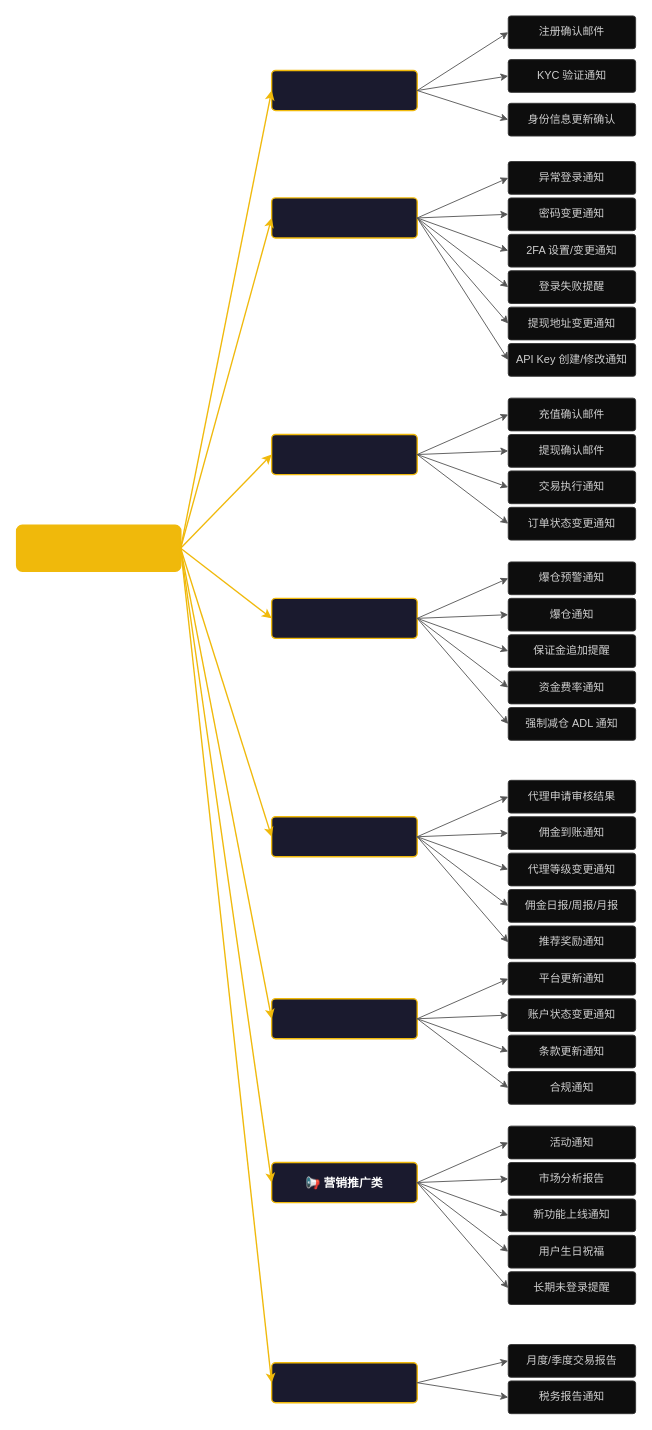
The diagram is 652 pixels wide and 1430 high, and some of its shapes have lost their labels. The centre of each missing label's shape, as x and y in pixels:
"代理/推广类" belongs at point 344,836.
"️ 系统通知类" belongs at point 344,1018.
"💱 交易通知类" belongs at point 344,454.
"📄 财务报告类" belongs at point 344,1382.
"📊 合约/衍生品交易类" belongs at point 344,618.
"📧 CEX 邮件类型" belongs at point 98,547.
"🔐 账户验证类" belongs at point 344,90.
"🛡️ 安全警报类" belongs at point 344,217.
